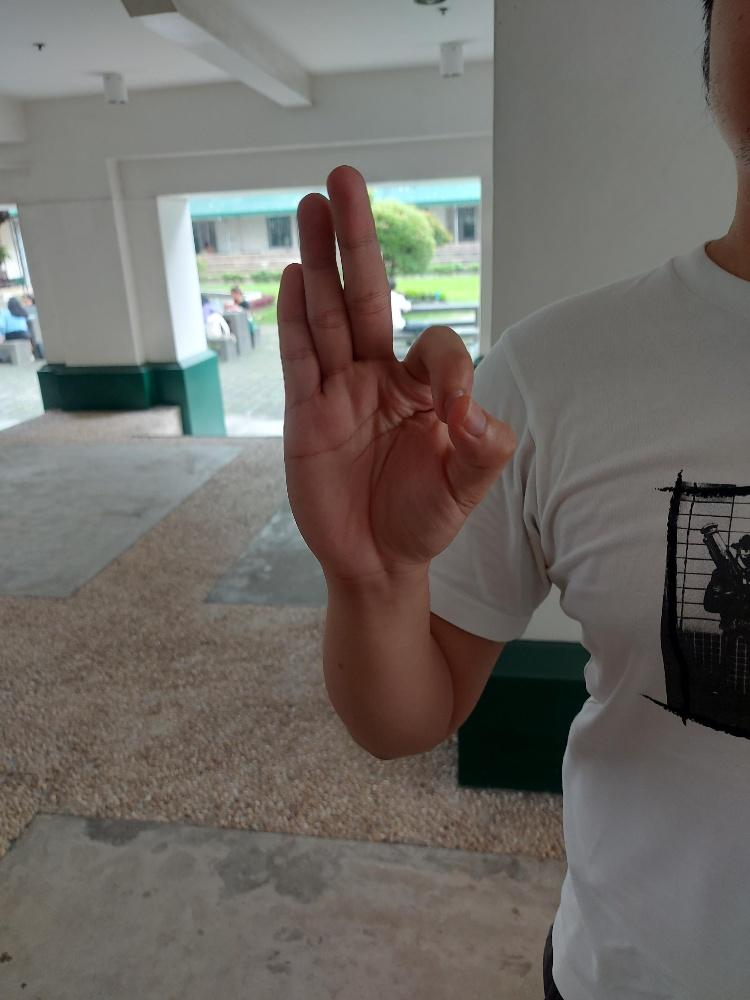f: (271, 159, 522, 585)
